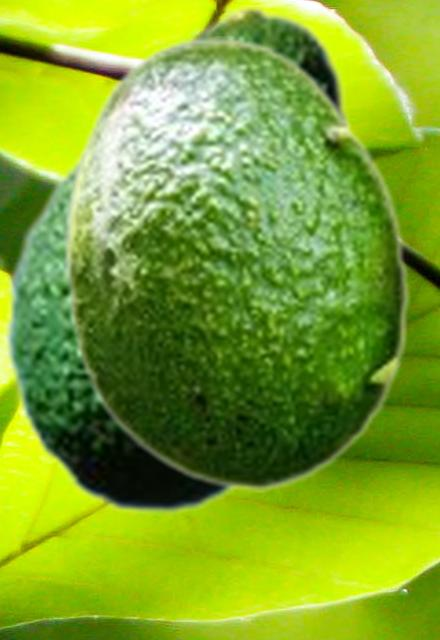avocado: (4, 5, 352, 515), (60, 36, 410, 491)
